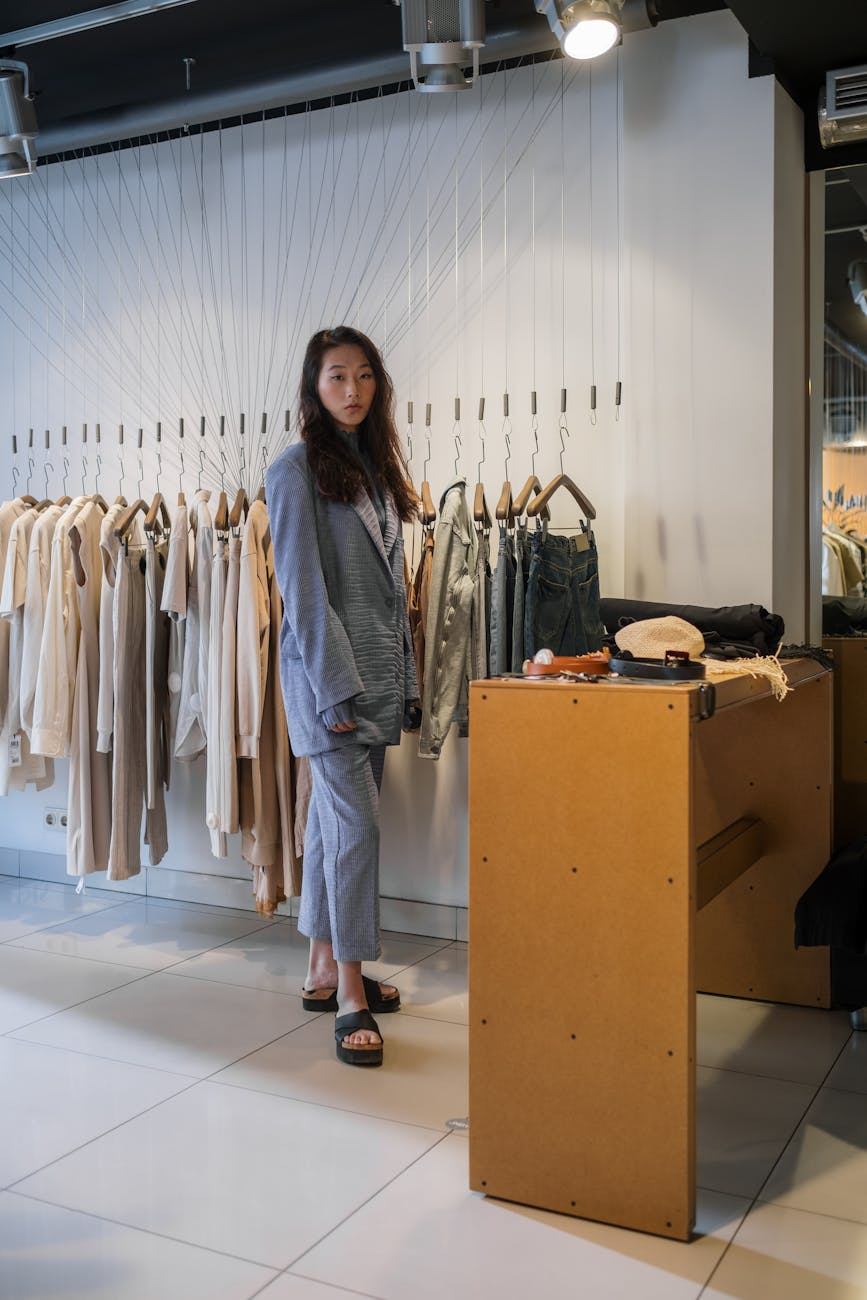opened_foot: (292, 973, 411, 1076)
